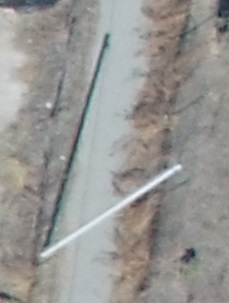opora: (33, 158, 184, 265)
